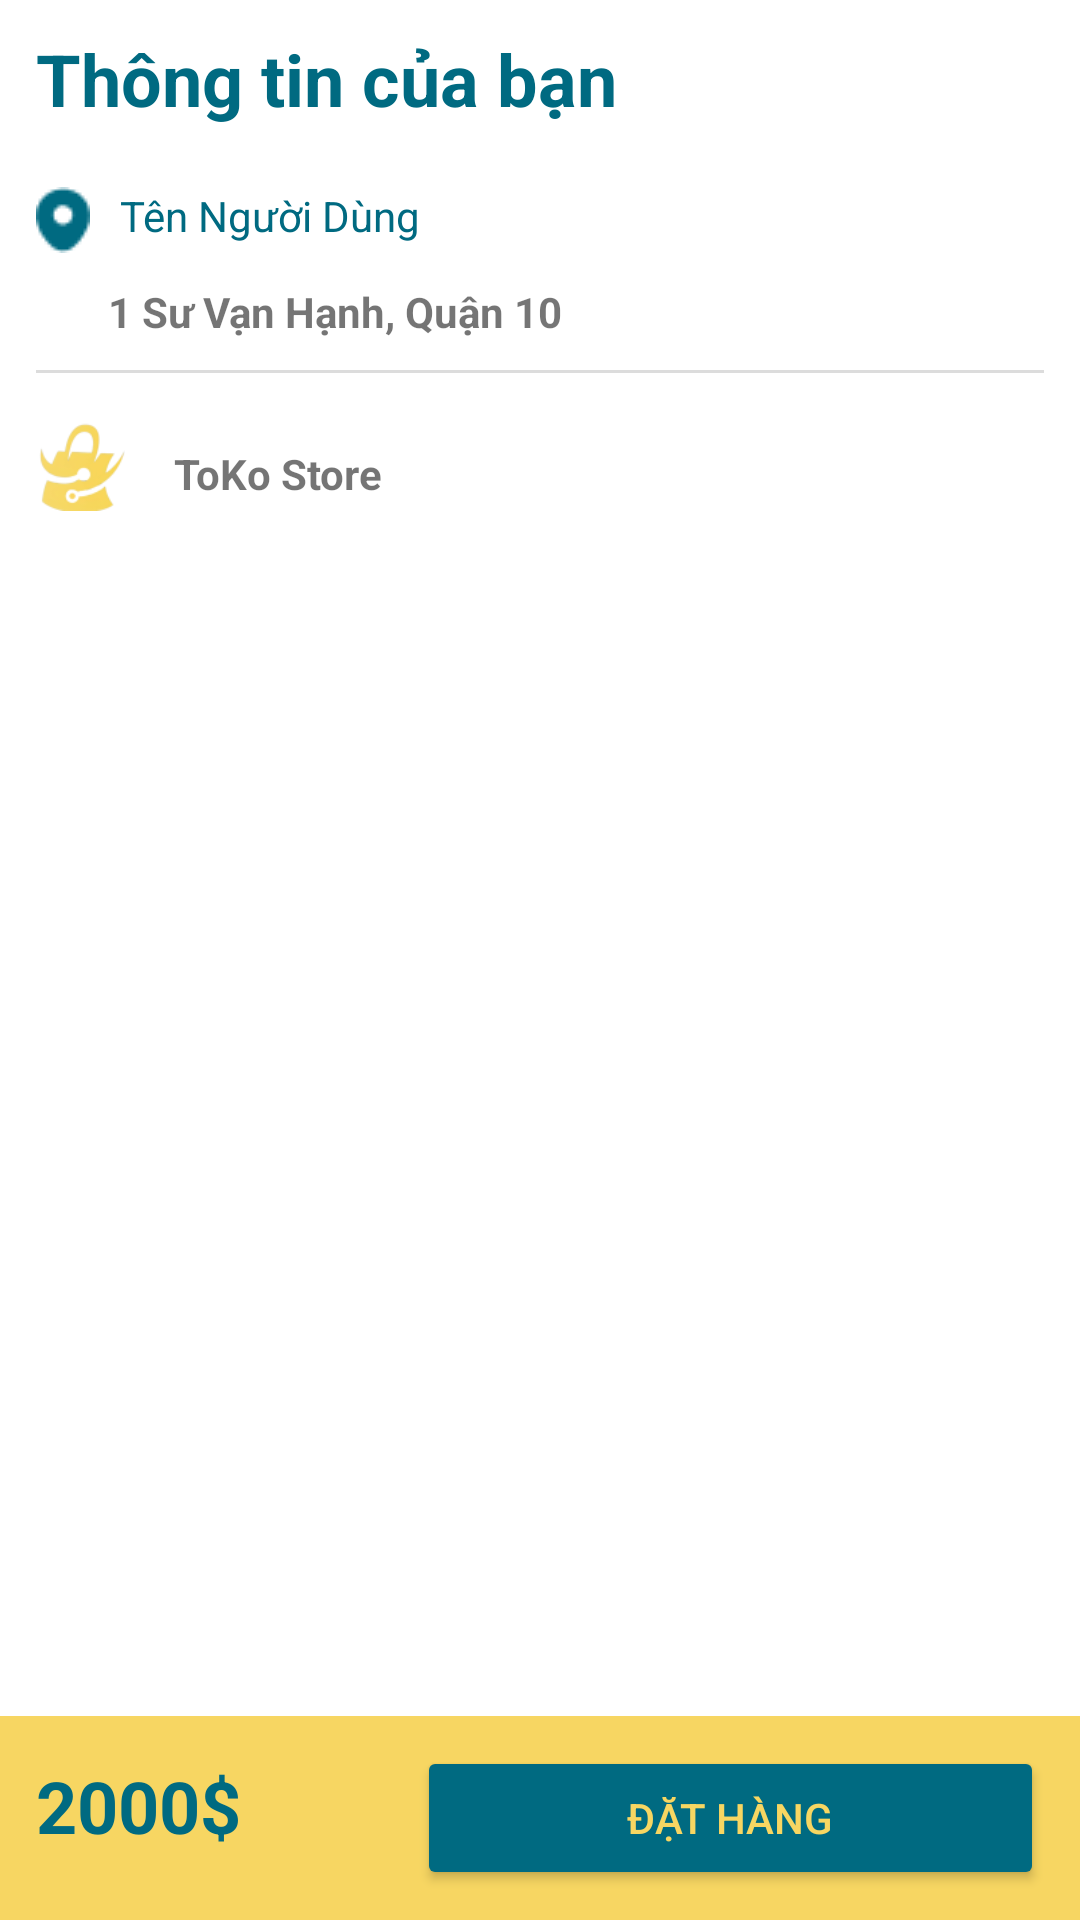

Locate icon controls on the screen. Image size 1080w x 1920h, boxes as box=[x1, y1, x2, y2].
location: box=[36, 187, 90, 253]
